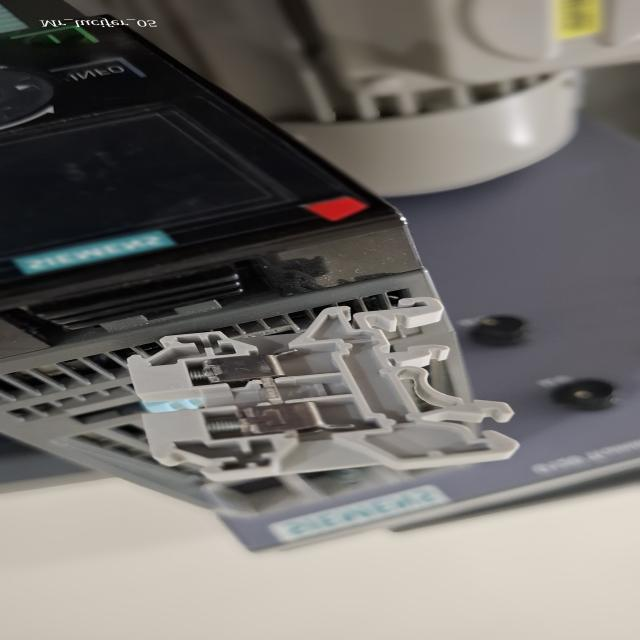Pass: (120, 289, 530, 492)
